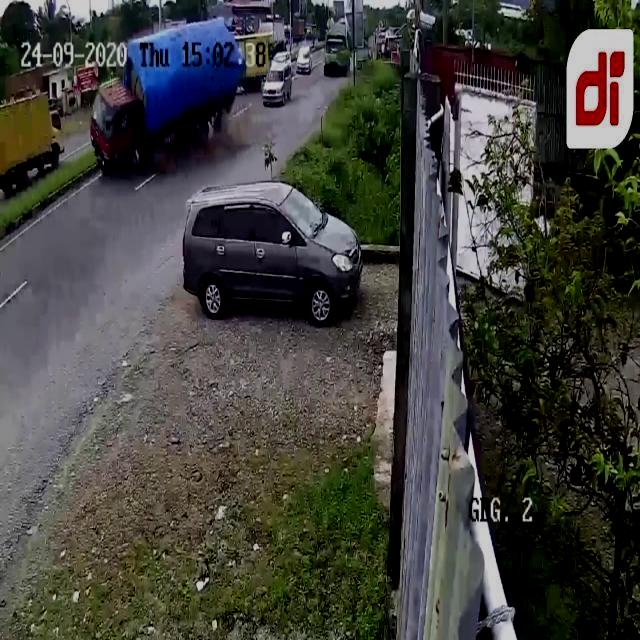accident: (83, 19, 251, 181)
non-accident: (260, 46, 314, 108)
